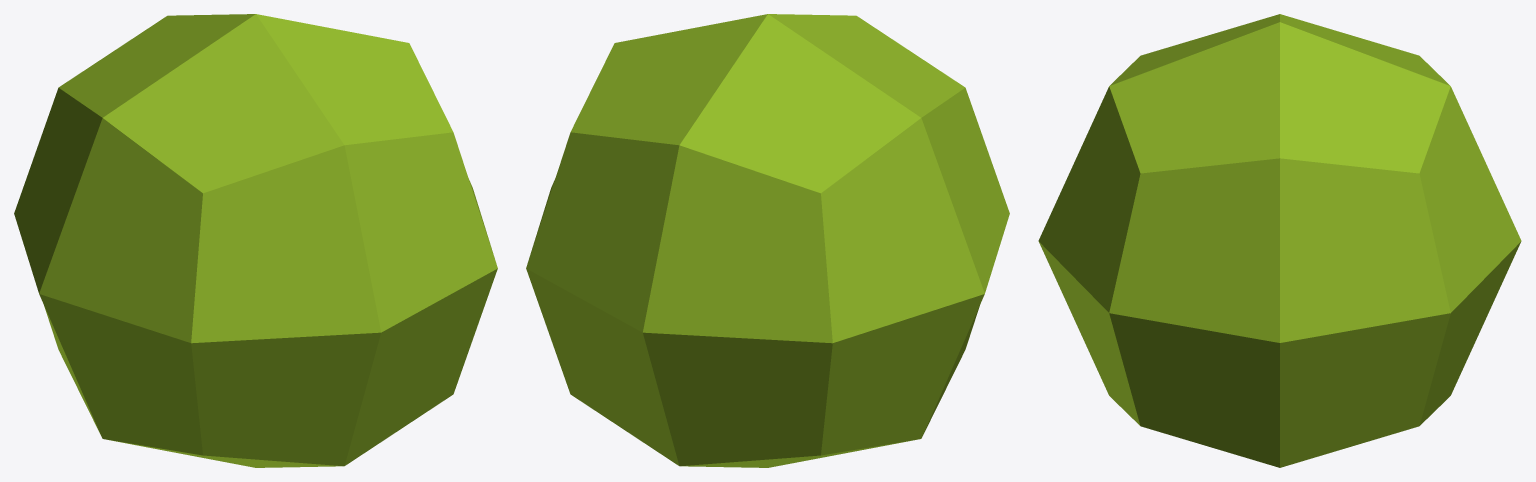
Rendered from Bubble.fbx.
3 renders of one model, left to right at view 1: azimuth 30°, elevation 25°; view 2: azimuth 150°, elevation 25°; view 3: azimuth 270°, elevation 25°, orthographic. The views are drawn at different scales.
Visible parts, largest first — view 1: Bubble; view 2: Bubble; view 3: Bubble.
Boxes of the visible parts, x1,y1,x2,y2 form: Bubble: (14,14,497,467); Bubble: (526,14,1009,467); Bubble: (1038,14,1521,467).
Bounding box in the file's own units: 4.38 × 4.38 × 4.38.
